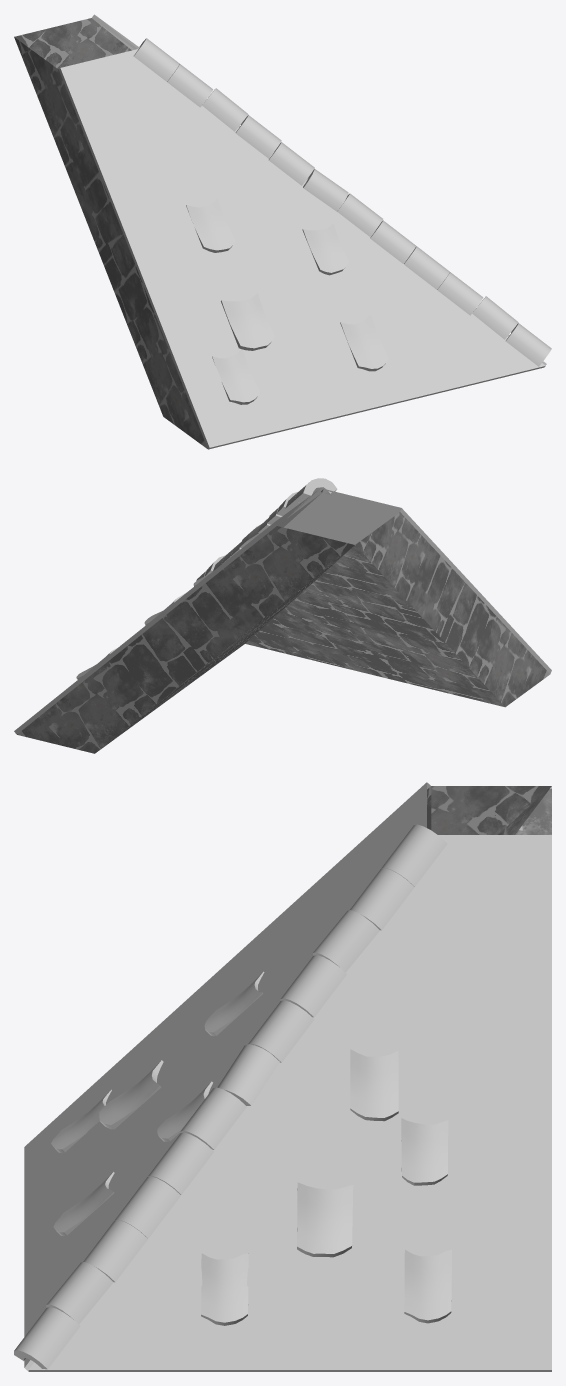
File: Roof_Mid_Corner_Outer.fbx
The picture shows the model from 3 angles, top to bottom: view 1: azimuth 30°, elevation 25°; view 2: azimuth 150°, elevation 25°; view 3: azimuth 270°, elevation 25°; orthographic projection. The views are drawn at different scales.
Visible parts, largest first — view 1: Corner_Outer; view 2: Corner_Outer; view 3: Corner_Outer.
Boxes of the visible parts, x1,y1,x2,y2 form: Corner_Outer: (14,14,551,449); Corner_Outer: (14,478,551,753); Corner_Outer: (14,782,551,1371).
Bounding box in the file's own units: 6.71 × 5.2 × 6.68.
